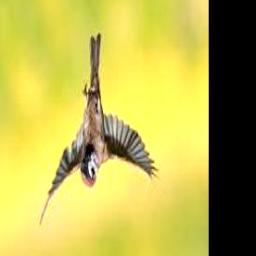Sparrow: (41, 33, 160, 227)
